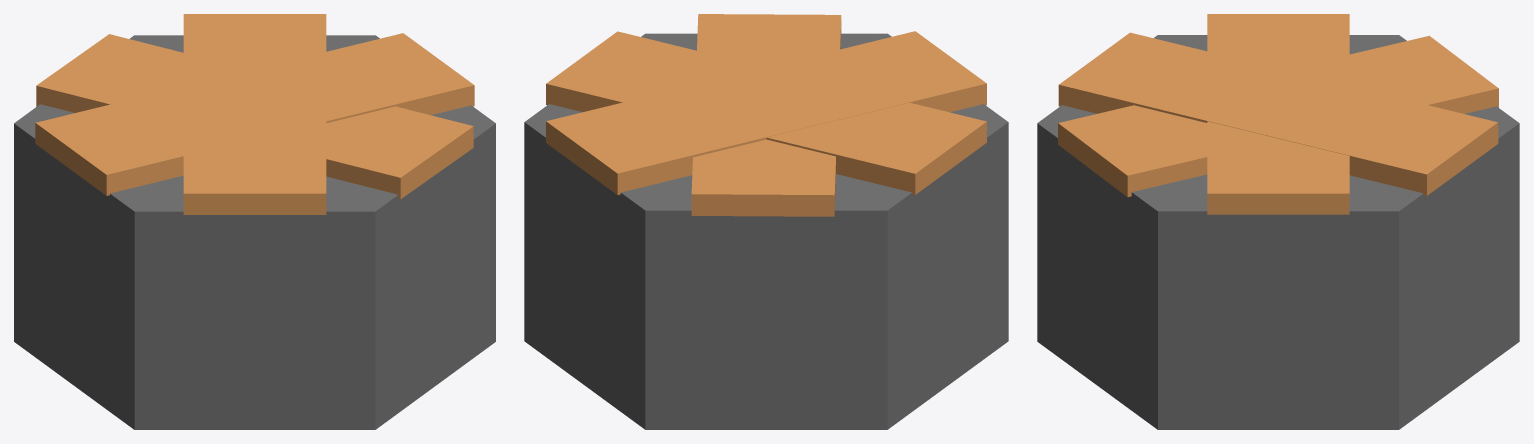
Rendered from RoadV1.fbx.
The picture shows the model from 3 angles, left to right: view 1: azimuth 30°, elevation 25°; view 2: azimuth 150°, elevation 25°; view 3: azimuth 270°, elevation 25°; orthographic projection.
Parts seen in each view (by area): view 1: Circle, Cube.001, Cube, Cube.002; view 2: Circle, Cube.001, Cube, Cube.002; view 3: Circle, Cube.001, Cube, Cube.002.
Part boxes in pixels (x1=…): Circle: x1=14, y1=35, x2=495, y2=429; Cube.001: x1=183, y1=14, x2=326, y2=214; Cube: x1=35, y1=33, x2=474, y2=195; Cube.002: x1=36, y1=34, x2=473, y2=199; Circle: x1=524, y1=33, x2=1008, y2=429; Cube.001: x1=546, y1=31, x2=986, y2=195; Cube: x1=546, y1=31, x2=986, y2=194; Cube.002: x1=691, y1=14, x2=841, y2=216; Circle: x1=1037, y1=35, x2=1519, y2=429; Cube.001: x1=1058, y1=32, x2=1498, y2=195; Cube: x1=1207, y1=14, x2=1349, y2=214; Cube.002: x1=1058, y1=35, x2=1498, y2=197.
Size of the model in its own units: 176 by 109 by 200.
